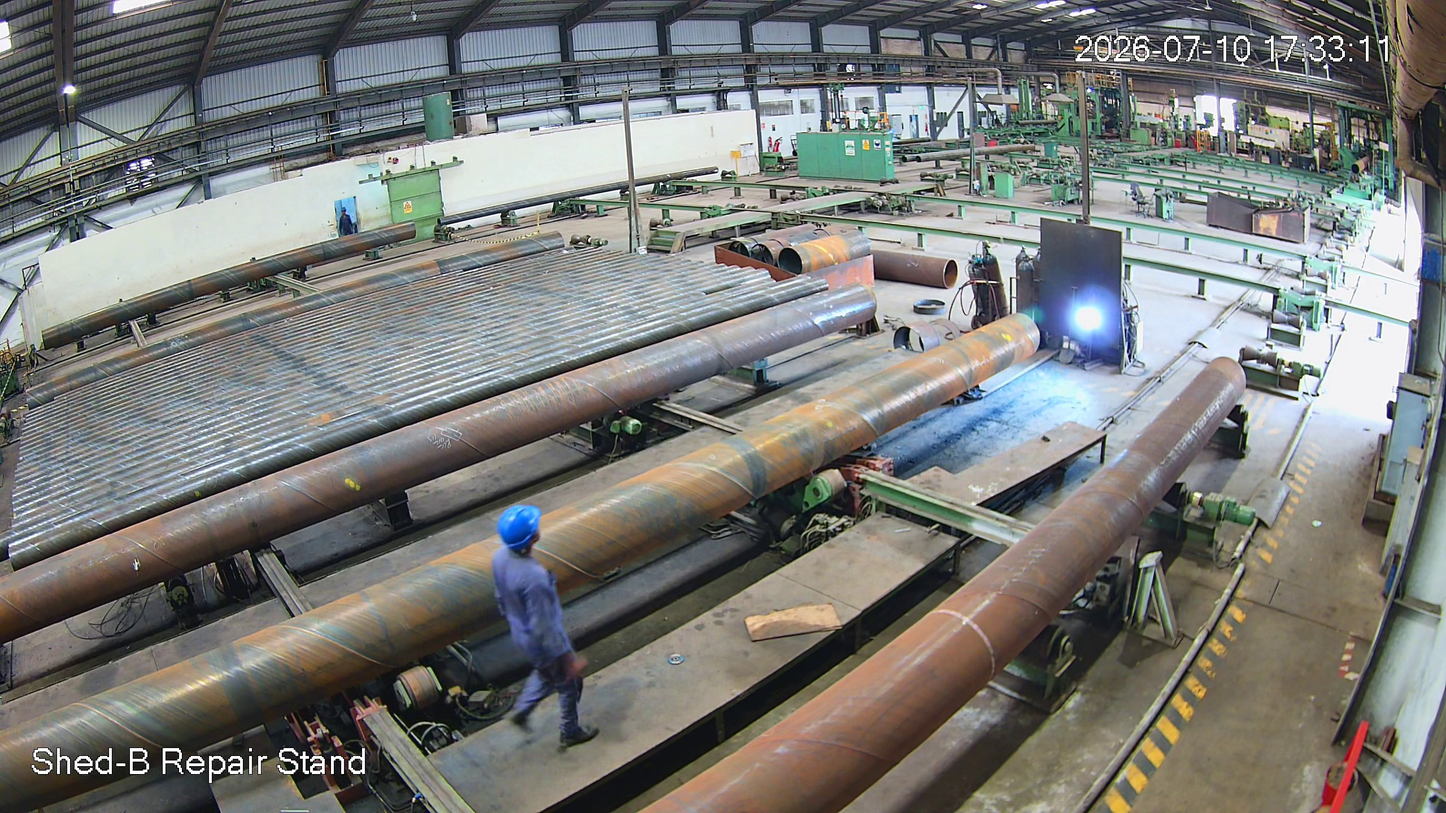Helmet: (482, 493, 550, 592)
Person: (476, 504, 604, 758)
